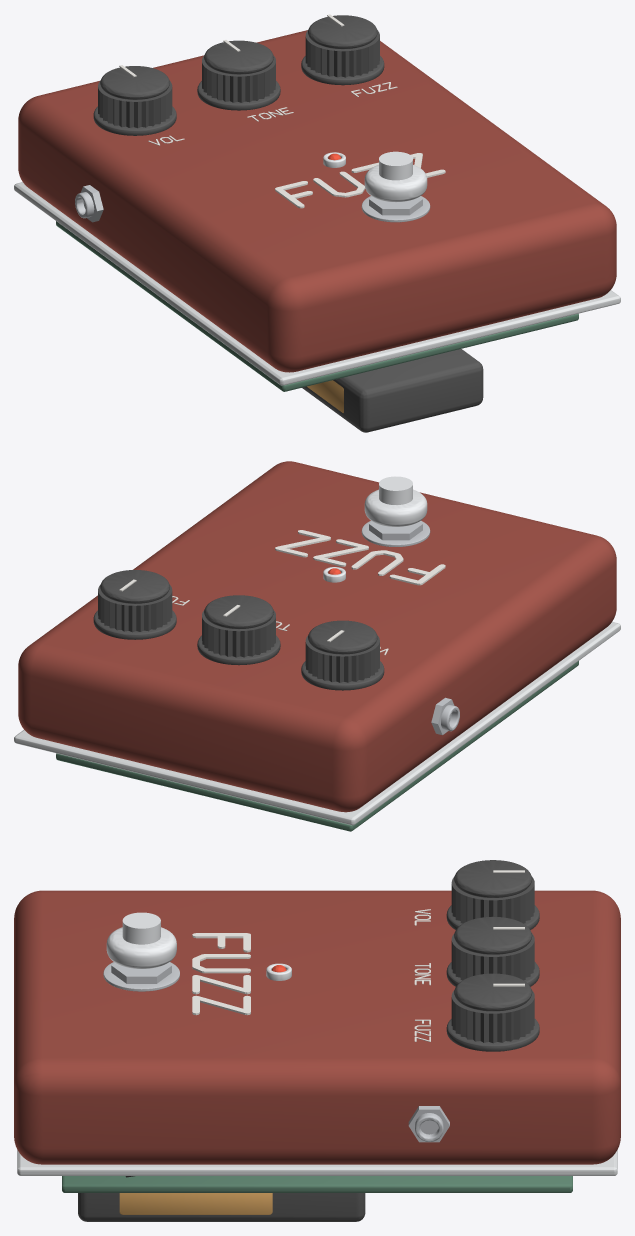
The model's file is fuzz-pedal.glb.
3 renders of one model, top to bottom at view 1: azimuth 30°, elevation 25°; view 2: azimuth 150°, elevation 25°; view 3: azimuth 270°, elevation 25°, orthographic. The views are drawn at different scales.
Visible parts, largest first — view 1: enclosure, knobs, battery, footswitch, circuit; view 2: enclosure, knobs, footswitch, circuit; view 3: enclosure, knobs, circuit, battery, footswitch.
Part boxes in pixels (x1,y1,x2,y2): enclosure: (14, 30, 620, 385); knobs: (93, 14, 384, 135); battery: (302, 349, 483, 432); footswitch: (361, 151, 430, 222); circuit: (56, 221, 578, 391); enclosure: (14, 461, 620, 825); knobs: (93, 570, 384, 690); footswitch: (361, 476, 430, 546); circuit: (56, 661, 578, 831); enclosure: (14, 890, 620, 1175); knobs: (446, 860, 539, 1051); circuit: (62, 1176, 572, 1192); battery: (78, 1193, 365, 1221); footswitch: (103, 912, 179, 991).
Bounding box in the file's own units: 1.51 × 0.935 × 1.9.
